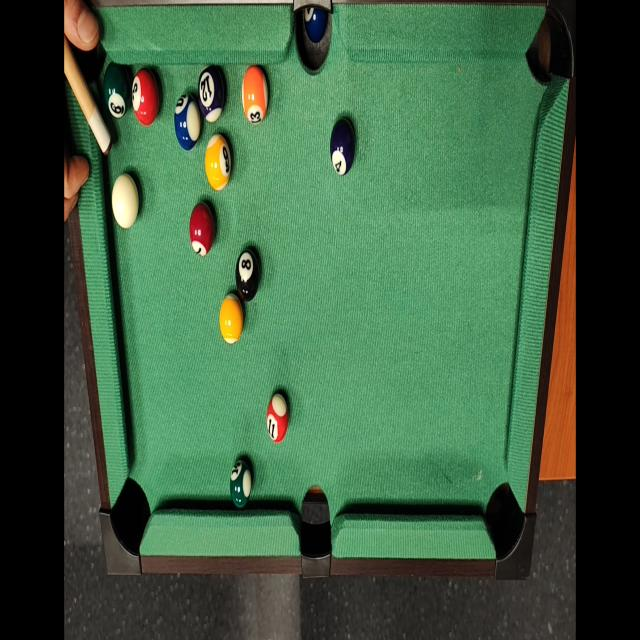cue ball: (110, 170, 141, 234)
other: (197, 60, 227, 125), (129, 65, 160, 126), (173, 88, 202, 152), (187, 200, 216, 262), (102, 56, 130, 120), (242, 66, 270, 126), (330, 114, 356, 178), (234, 244, 262, 302), (205, 132, 231, 192), (218, 290, 243, 350), (228, 453, 253, 512), (264, 390, 290, 440)
